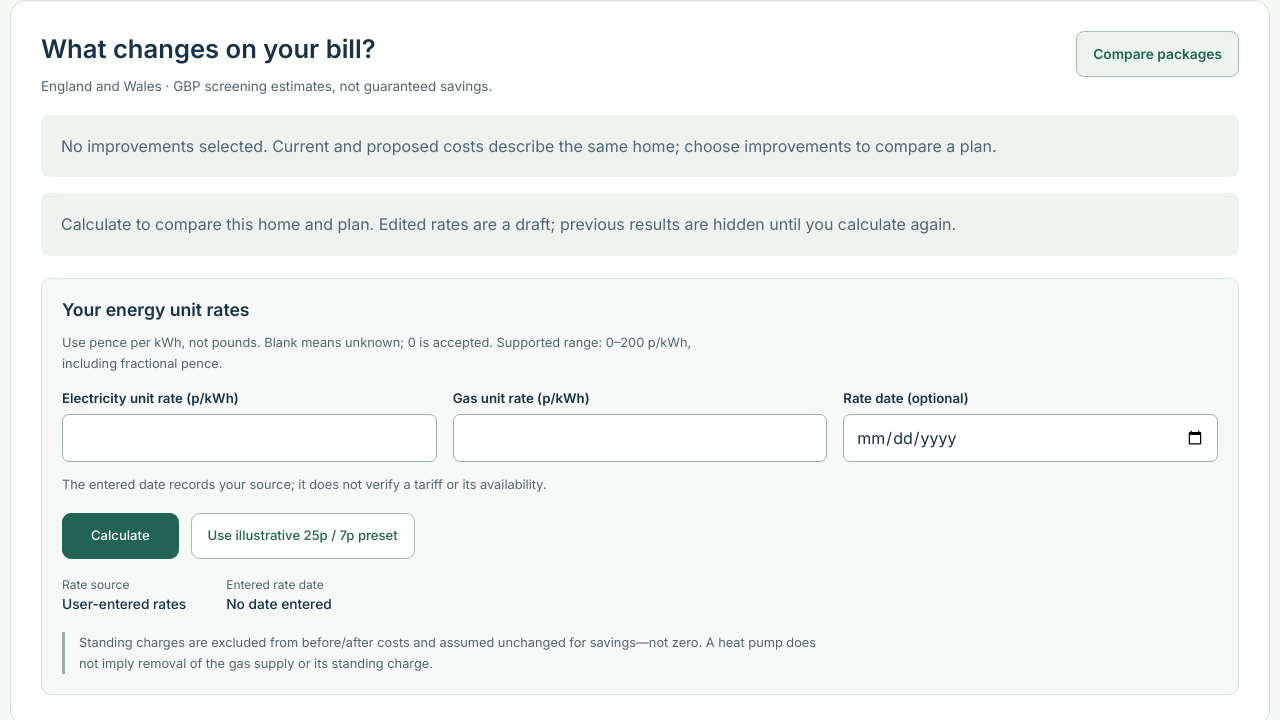
Dashboard money and shared Costs & packages › identifies no selection instead of claiming an upgrade benefit
Expected: the text "No improvements selected" is shown, [61,136,997,156]
Click the button "Use illustrative 25p / 7p preset".
click(303, 536)  # box [191,513,415,559]
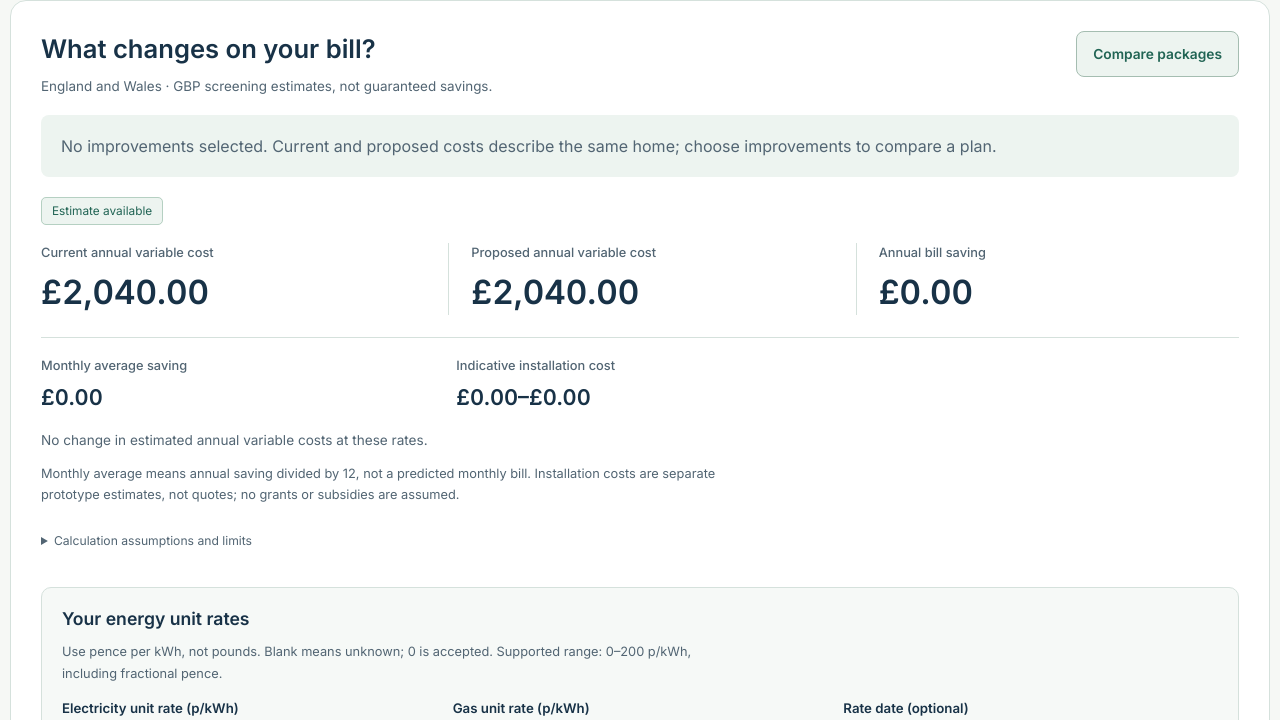
Expected: the text "No improvements selected" is shown, [61,136,997,156]
Expected: the text "£0.00" below "Annual bill saving" is shown, [879,272,973,312]
Expected: the text "£0.00–£0.00" is shown, [456,384,591,410]
